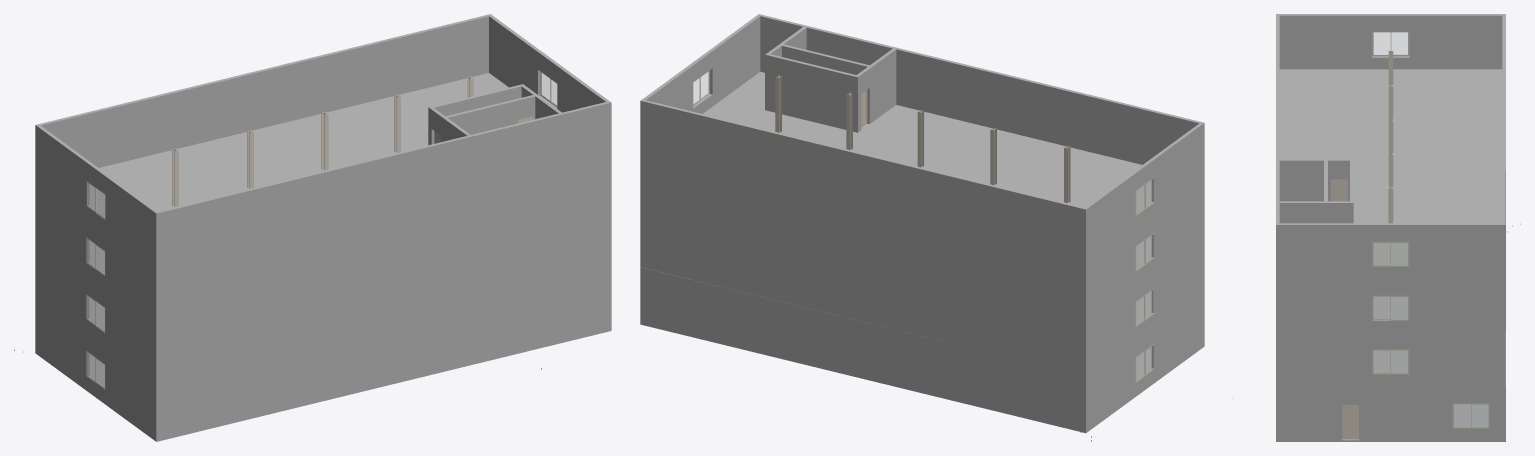
Rendered from kotak_ifc_gltf.glb.
3 renders of one model, left to right at view 1: azimuth 30°, elevation 25°; view 2: azimuth 150°, elevation 25°; view 3: azimuth 270°, elevation 25°, orthographic. The views are drawn at different scales.
Parts seen in each view (by area): view 1: product-95b1f93c-128d-5b4b-a03a-4a5ed5b0e76f-body, product-79af7a2c-269c-ba44-b41c-d13d5c3cedf0-body, product-b7bc1030-24f5-fc4b-9d97-24e2612840f0-body, product-443e51f6-5407-e643-9974-e79cb252bf59-body, product-e0f8c606-cd9e-0d4c-ac02-2aeb4fda1cd1-body, product-c323dd92-969d-e74c-8b08-ce73e9facc4a-body, product-1b31d2bf-a852-384a-93c6-d56bb96eeb99-body, product-3fe83c85-026a-9341-8ce8-6200ed6c576c-body, product-8ce5b5a0-0de0-0549-ad8a-439c18506258-body, product-f48fa797-1c96-9f4b-8689-edc5c3d27d67-body, product-1bbcc5ff-750d-5140-b209-e65f1fe55ecb-body, product-c899882d-019e-1c48-bd7a-2b17b2e9d472-body (+5 smaller); view 2: product-e0f8c606-cd9e-0d4c-ac02-2aeb4fda1cd1-body, product-3670ff31-7bc7-3a49-9e41-0a08e4bc8548-body, product-0a03a3c1-55ce-3147-90e4-09c09c9e7e8f-body, product-6a2bc47f-5747-df4a-a660-ab839ff794a1-body, product-95b1f93c-128d-5b4b-a03a-4a5ed5b0e76f-body, product-c323dd92-969d-e74c-8b08-ce73e9facc4a-body, product-1b31d2bf-a852-384a-93c6-d56bb96eeb99-body, product-8ce5b5a0-0de0-0549-ad8a-439c18506258-body, product-3fe83c85-026a-9341-8ce8-6200ed6c576c-body, product-f48fa797-1c96-9f4b-8689-edc5c3d27d67-body, product-1bbcc5ff-750d-5140-b209-e65f1fe55ecb-body, product-228d492a-6360-5749-bfa0-50f26e95216c-body (+5 smaller); view 3: product-c323dd92-969d-e74c-8b08-ce73e9facc4a-body, product-1bbcc5ff-750d-5140-b209-e65f1fe55ecb-body, product-3e9f44fe-0d98-4f4a-8d4c-cd9ee7d30ed8-body, product-7467b326-522a-a845-849c-6ac313e289ee-body, product-1b31d2bf-a852-384a-93c6-d56bb96eeb99-body, product-c6b61ffd-d4d6-8f4e-a154-c9681cd75ee6-body, product-52c2b706-68f3-2847-ac1d-7b98a60089a4-body, product-a7cefa4d-e63a-5648-aa49-e49f70919f8b-body, product-74346384-0139-d541-87a9-c9938b088790-body, product-a197dbf9-384c-e144-8a89-5ec3e2ba1189-body, product-7e3a2c12-6949-434b-b210-03400a4691a0-body, product-b31e3734-11ea-8a49-931d-9ac213f97017-body (+8 smaller).
Boxes of the visible parts, x1,y1,x2,y2 form: product-95b1f93c-128d-5b4b-a03a-4a5ed5b0e76f-body: (156, 102, 611, 270); product-79af7a2c-269c-ba44-b41c-d13d5c3cedf0-body: (156, 272, 611, 439); product-b7bc1030-24f5-fc4b-9d97-24e2612840f0-body: (156, 161, 611, 326); product-443e51f6-5407-e643-9974-e79cb252bf59-body: (156, 216, 611, 383); product-e0f8c606-cd9e-0d4c-ac02-2aeb4fda1cd1-body: (36, 14, 490, 167); product-c323dd92-969d-e74c-8b08-ce73e9facc4a-body: (36, 73, 611, 270); product-1b31d2bf-a852-384a-93c6-d56bb96eeb99-body: (35, 125, 157, 269); product-3fe83c85-026a-9341-8ce8-6200ed6c576c-body: (35, 182, 156, 326); product-8ce5b5a0-0de0-0549-ad8a-439c18506258-body: (35, 238, 156, 382); product-f48fa797-1c96-9f4b-8689-edc5c3d27d67-body: (35, 295, 156, 439); product-1bbcc5ff-750d-5140-b209-e65f1fe55ecb-body: (489, 14, 610, 112); product-c899882d-019e-1c48-bd7a-2b17b2e9d472-body: (446, 95, 535, 134); product-e0f8c606-cd9e-0d4c-ac02-2aeb4fda1cd1-body: (640, 100, 1085, 264); product-3670ff31-7bc7-3a49-9e41-0a08e4bc8548-body: (640, 267, 1085, 431); product-0a03a3c1-55ce-3147-90e4-09c09c9e7e8f-body: (640, 156, 1085, 320); product-6a2bc47f-5747-df4a-a660-ab839ff794a1-body: (640, 212, 1085, 375); product-95b1f93c-128d-5b4b-a03a-4a5ed5b0e76f-body: (759, 14, 1203, 164); product-c323dd92-969d-e74c-8b08-ce73e9facc4a-body: (702, 71, 1194, 265); product-1b31d2bf-a852-384a-93c6-d56bb96eeb99-body: (1085, 123, 1204, 264); product-8ce5b5a0-0de0-0549-ad8a-439c18506258-body: (1086, 234, 1204, 375); product-3fe83c85-026a-9341-8ce8-6200ed6c576c-body: (1086, 178, 1204, 320); product-f48fa797-1c96-9f4b-8689-edc5c3d27d67-body: (1086, 290, 1204, 431); product-1bbcc5ff-750d-5140-b209-e65f1fe55ecb-body: (641, 14, 760, 113); product-228d492a-6360-5749-bfa0-50f26e95216c-body: (768, 54, 857, 132); product-c323dd92-969d-e74c-8b08-ce73e9facc4a-body: (1278, 69, 1505, 280); product-1bbcc5ff-750d-5140-b209-e65f1fe55ecb-body: (1276, 223, 1505, 278); product-3e9f44fe-0d98-4f4a-8d4c-cd9ee7d30ed8-body: (1276, 332, 1505, 386); product-7467b326-522a-a845-849c-6ac313e289ee-body: (1276, 278, 1505, 332); product-1b31d2bf-a852-384a-93c6-d56bb96eeb99-body: (1276, 14, 1505, 69); product-c6b61ffd-d4d6-8f4e-a154-c9681cd75ee6-body: (1276, 386, 1505, 440); product-52c2b706-68f3-2847-ac1d-7b98a60089a4-body: (1279, 159, 1353, 201); product-a7cefa4d-e63a-5648-aa49-e49f70919f8b-body: (1279, 201, 1353, 223); product-74346384-0139-d541-87a9-c9938b088790-body: (1276, 404, 1505, 441); product-a197dbf9-384c-e144-8a89-5ec3e2ba1189-body: (1452, 403, 1489, 428); product-7e3a2c12-6949-434b-b210-03400a4691a0-body: (1372, 349, 1409, 374); product-b31e3734-11ea-8a49-931d-9ac213f97017-body: (1372, 295, 1409, 320).
Size of the model in its own units: 27.68 by 12.9 by 15.47.
